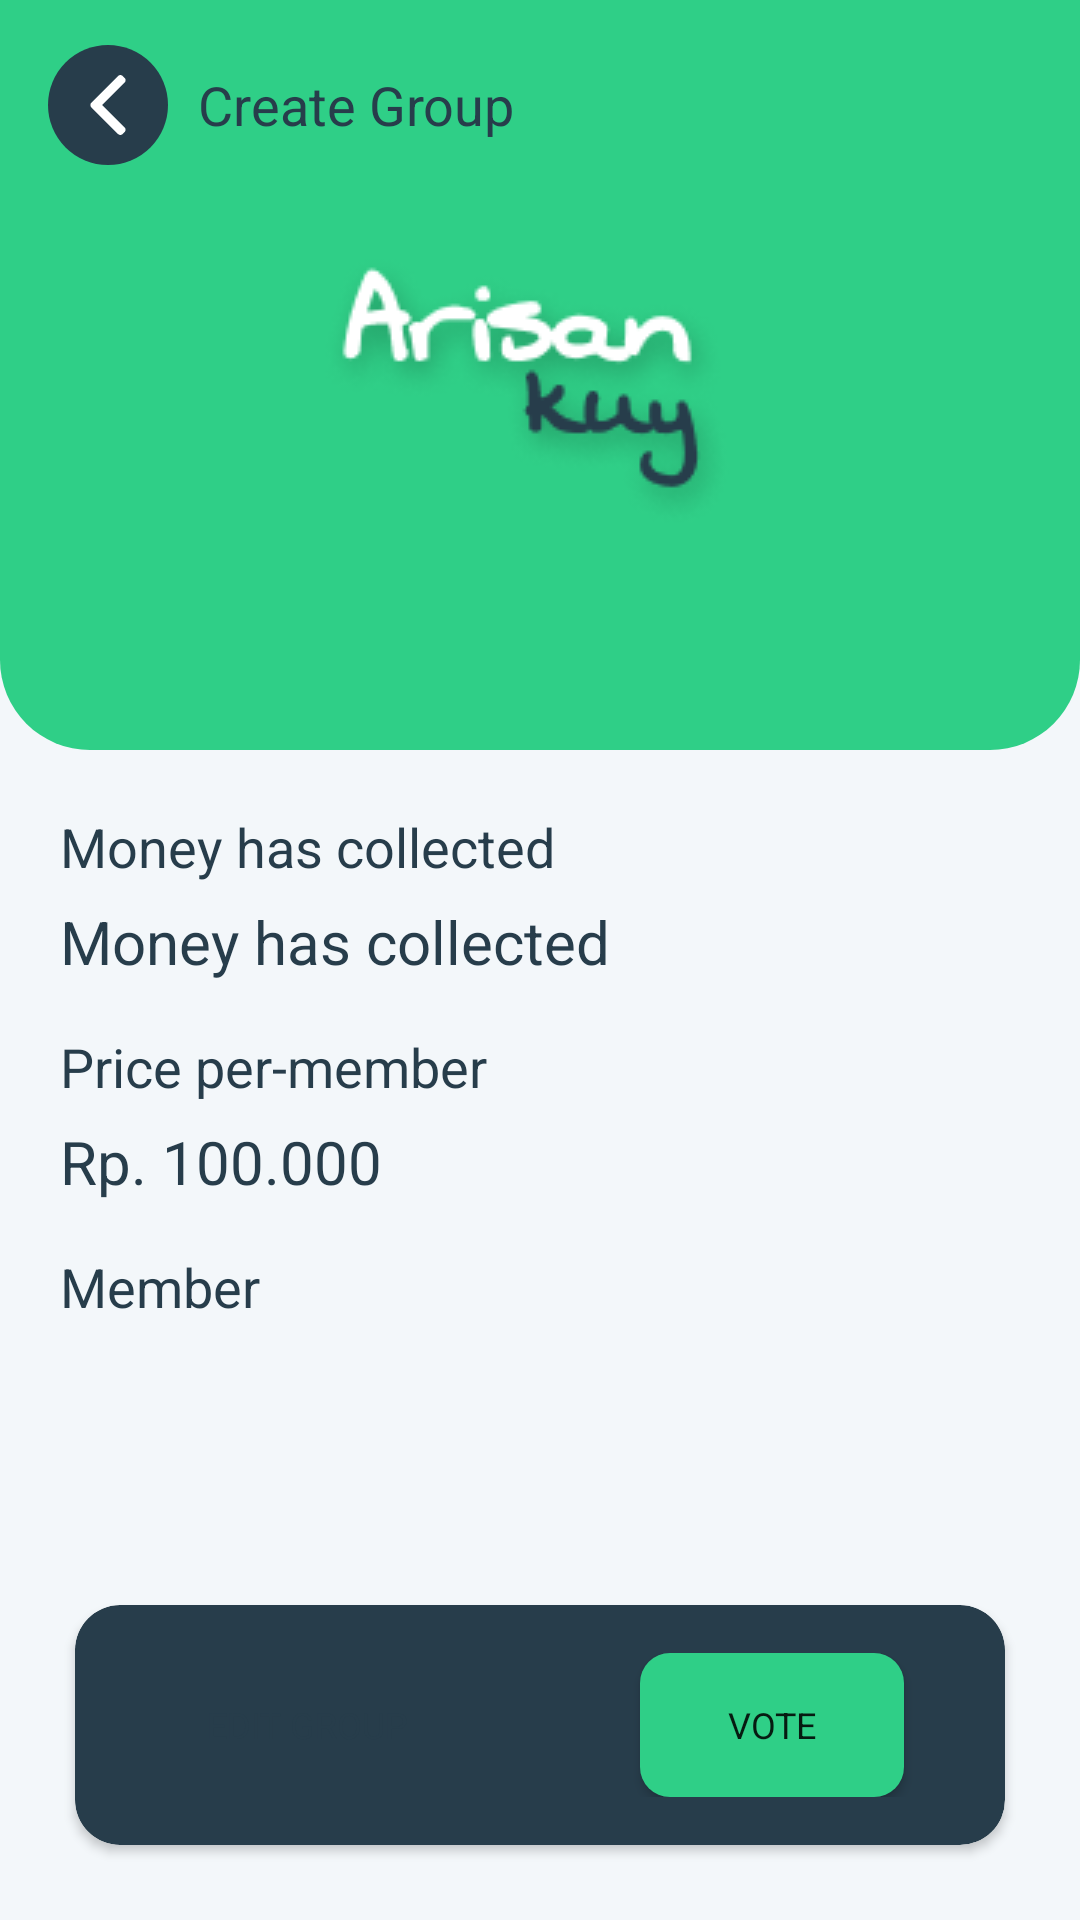

Where icons sit on this 1080x1920 app screen, as (x1, y1, x2, y2):
left arrow: (90, 75, 126, 135)
